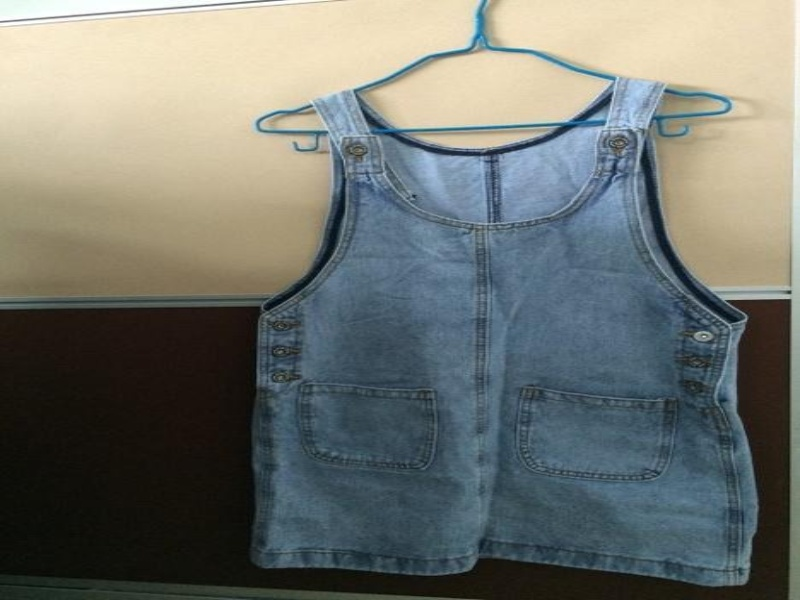sling_dress: (244, 73, 762, 590)
